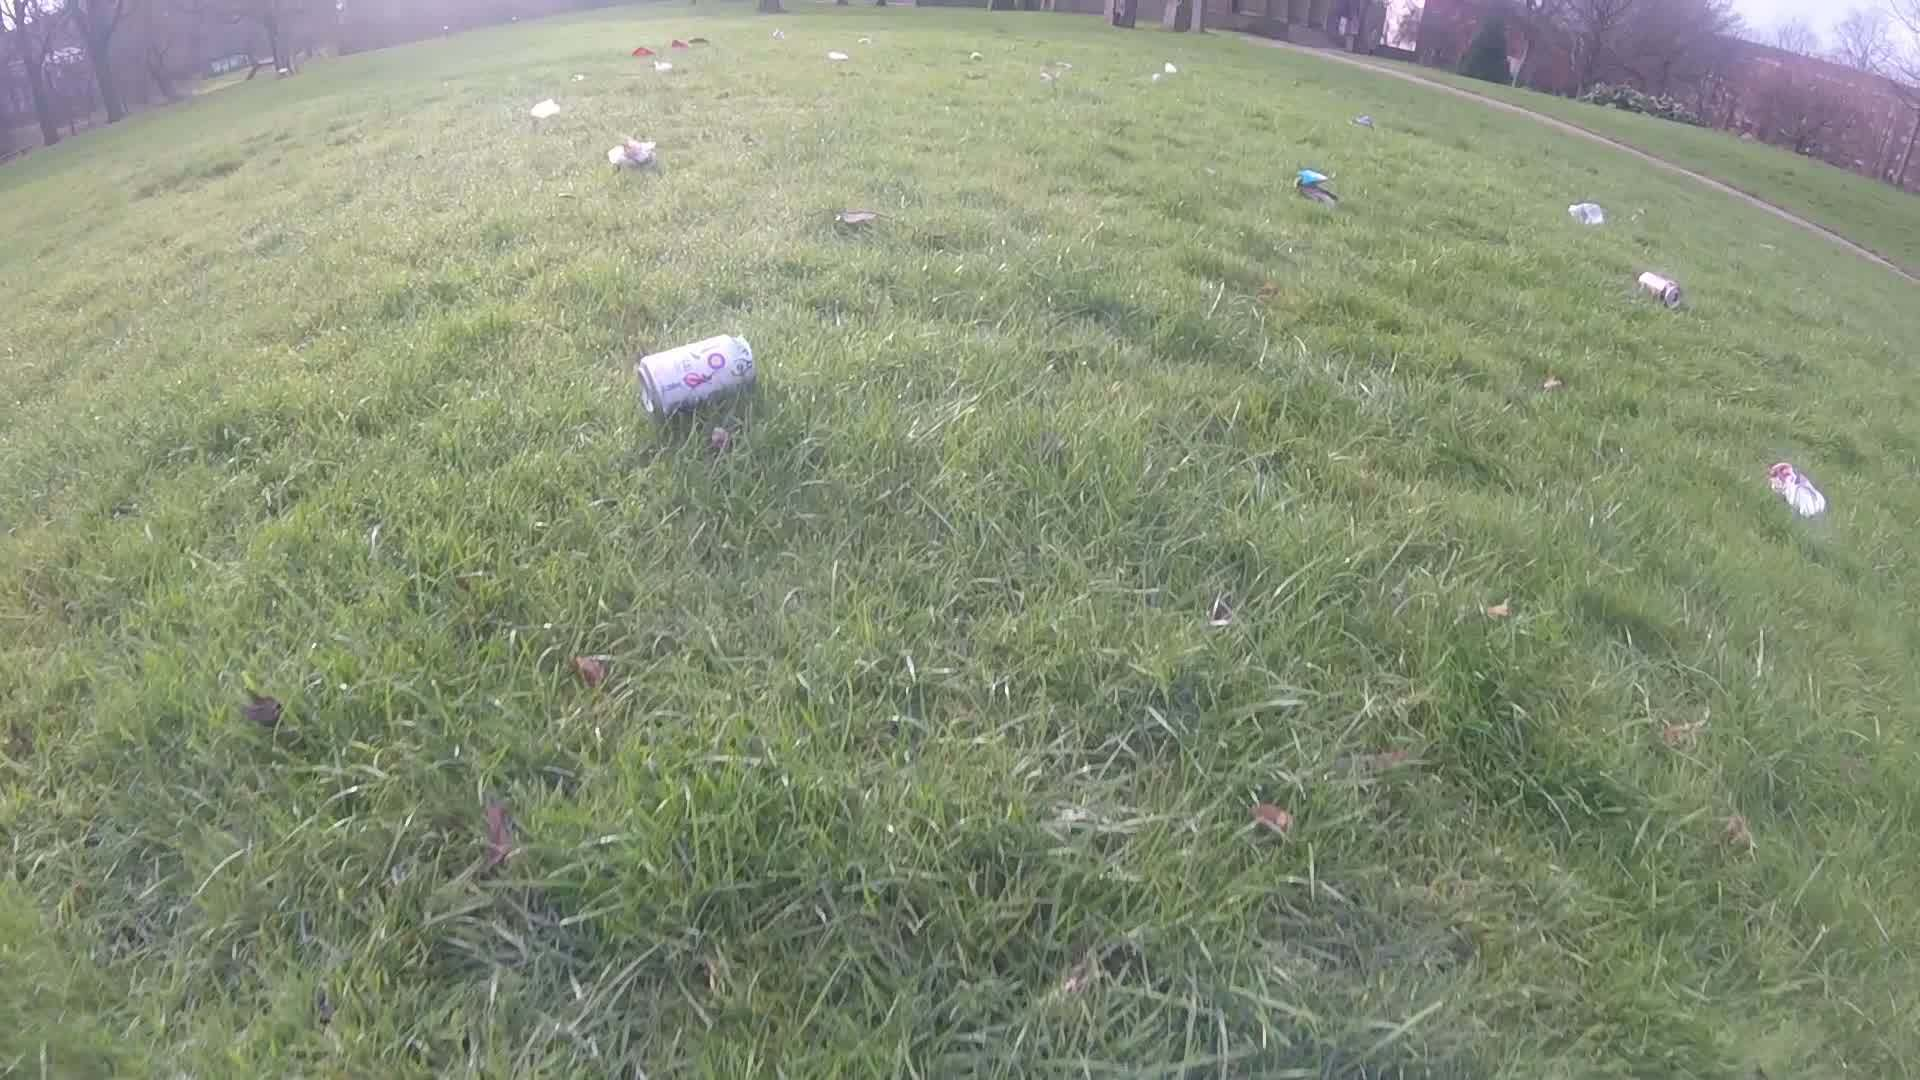litter: (634, 330, 760, 419), (1768, 459, 1824, 517), (609, 135, 655, 171), (1638, 272, 1683, 309), (1290, 171, 1337, 204), (1569, 202, 1605, 229), (527, 98, 563, 120), (1352, 115, 1375, 133), (650, 59, 675, 73), (1160, 61, 1178, 75), (824, 53, 849, 62), (684, 36, 709, 45), (628, 47, 657, 55), (666, 38, 690, 47), (1149, 70, 1162, 84), (855, 36, 874, 45), (572, 70, 587, 82), (1040, 70, 1054, 82), (775, 25, 785, 40), (968, 50, 978, 61)
